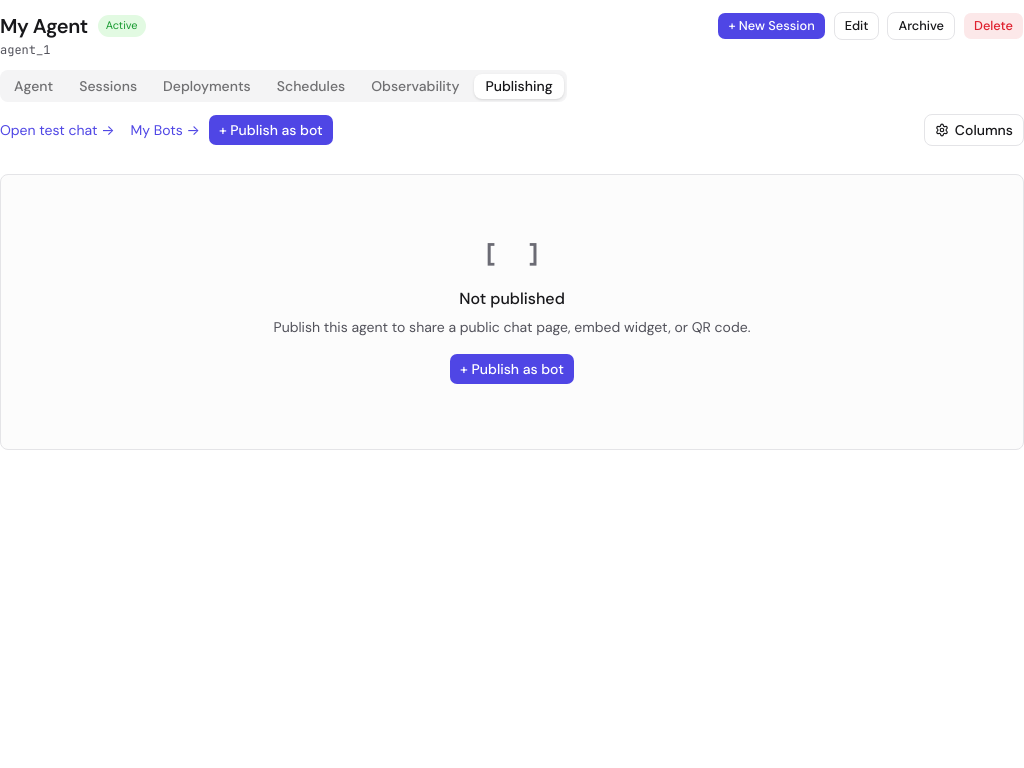
Test: <AgentPublishingTab /> › shows the Not published empty state and opens the Publish dialog prefilled from the agent
The image size is (1024, 768).
Expected: the text "Not published" is shown, [459,288,565,309]
Step 1. Click the button "+ Publish as bot" next to "My Bots →" → (271, 130), box [208,114,334,146]
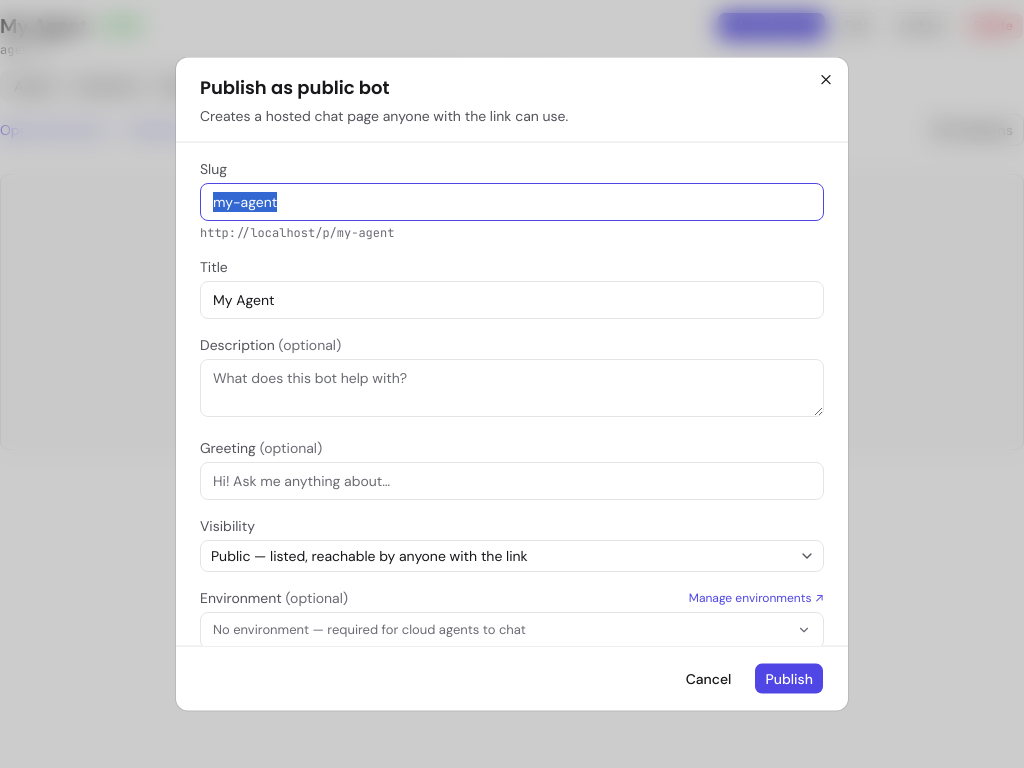
Now the heading "Publish as public bot" is shown, box [200,75,390,100]
Now the field showing "my-agent" is shown, box [200,183,824,221]
Now the field showing "My Agent" is shown, box [200,281,824,319]
